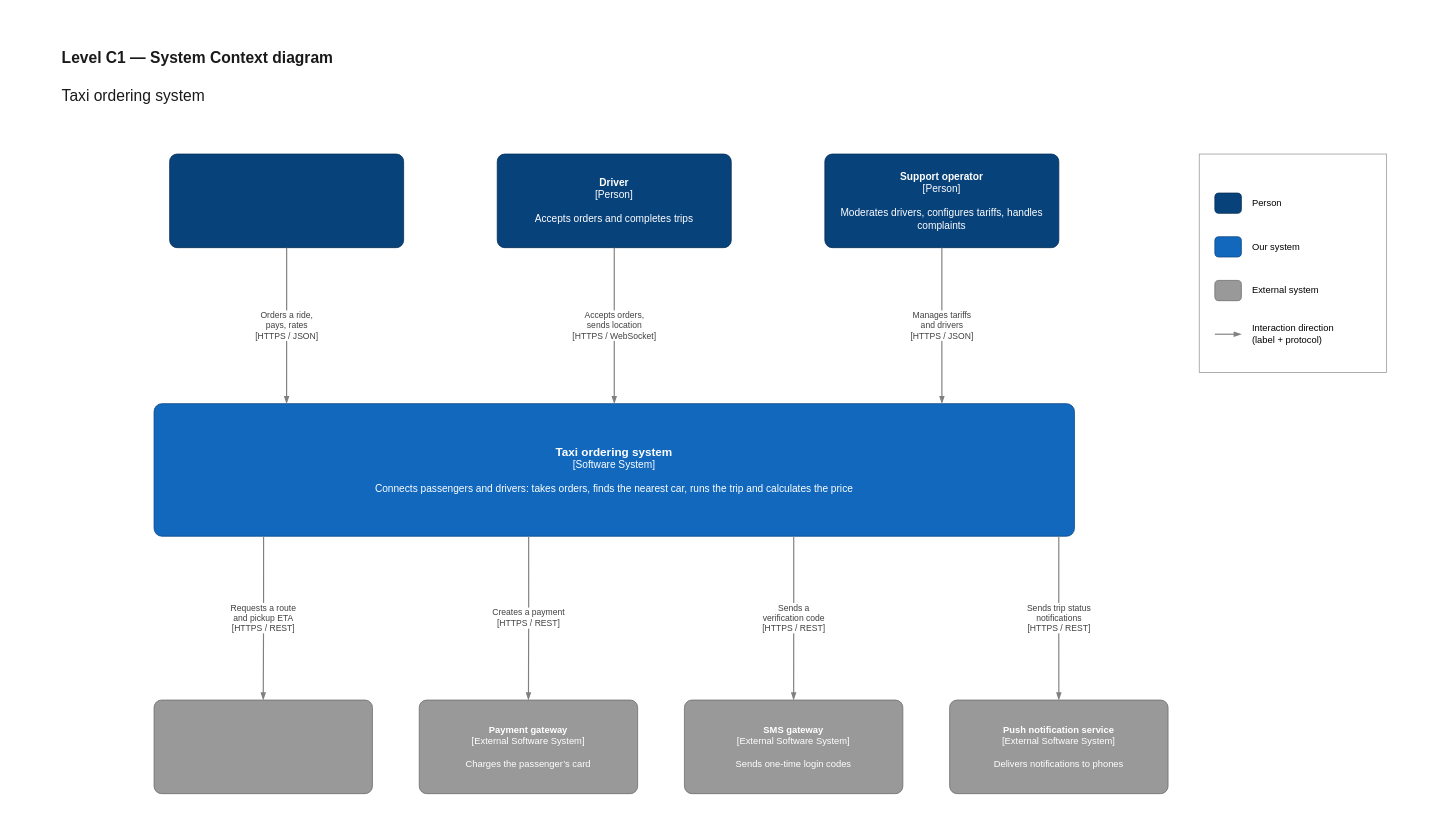
This 1431x838 diagram has some shape labels left out. Here are the shapes that lost their labels. From the top down, the box of each, then its label:
(169, 153, 404, 248): Passenger [Person] Orders a ride, pays for it and rates the driver
(1198, 153, 1386, 372): Legend
(153, 699, 372, 794): Maps service [External Software System] Builds routes and calculates pickup ETA
